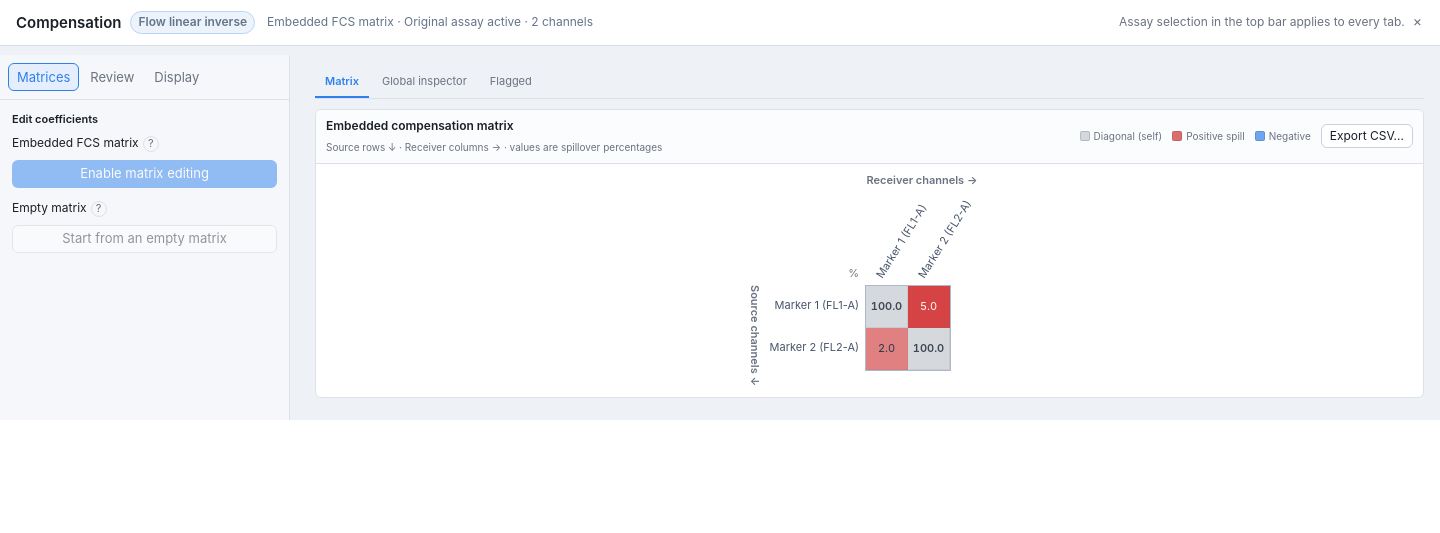
Test: CompensationTab common path › selects one source-to-receiver cell and highlights both scientific axes
Click the cell with class "gl-comp-cell" showing "5.0" at (929, 307), box [908,286,950,328]
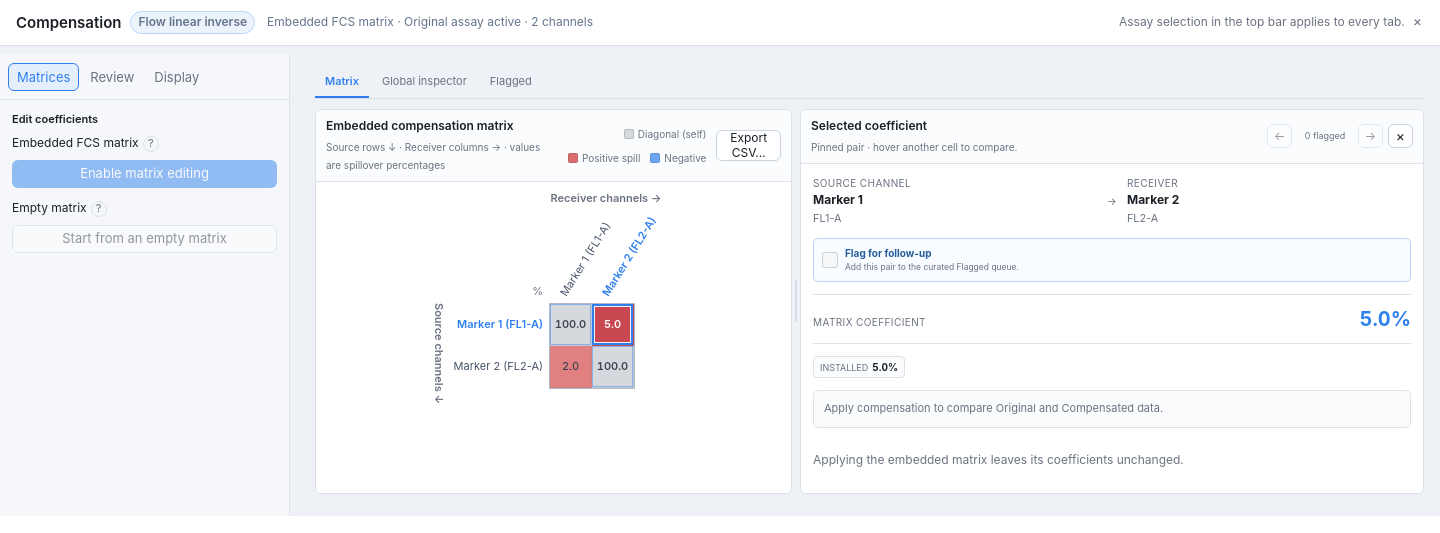
Expected: the element with class "gl-comp-pair-detail" shows "5.0%", [1360,307,1411,331]
Expected: the element with class "gl-comp-pair-detail" shows "FL1-A", [813,212,842,225]
Expected: the element with class "gl-comp-pair-detail" shows "FL2-A", [1127,212,1158,225]
